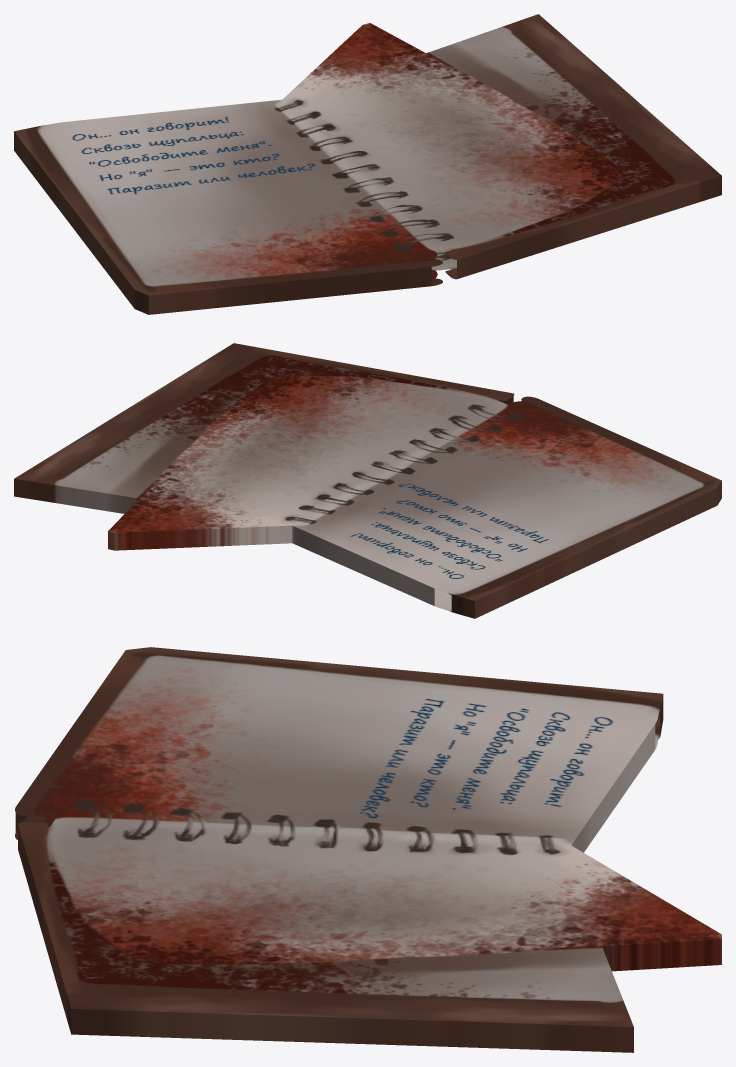
The model's file is The_notebook_is_on_the_fourth_level.fbx.
The picture shows the model from 3 angles, top to bottom: view 1: azimuth 30°, elevation 25°; view 2: azimuth 150°, elevation 25°; view 3: azimuth 270°, elevation 25°; orthographic projection. The views are drawn at different scales.
Parts seen in each view (by area): view 1: The_notebook_is_on_the_fourth_level; view 2: The_notebook_is_on_the_fourth_level; view 3: The_notebook_is_on_the_fourth_level.
Part boxes in pixels (box(x1,y1,x2,y2)): The_notebook_is_on_the_fourth_level: box(14, 14, 721, 314); The_notebook_is_on_the_fourth_level: box(14, 343, 721, 618); The_notebook_is_on_the_fourth_level: box(15, 647, 721, 1052).
Bounding box in the file's own units: 65.4 × 2.06 × 51.49.
